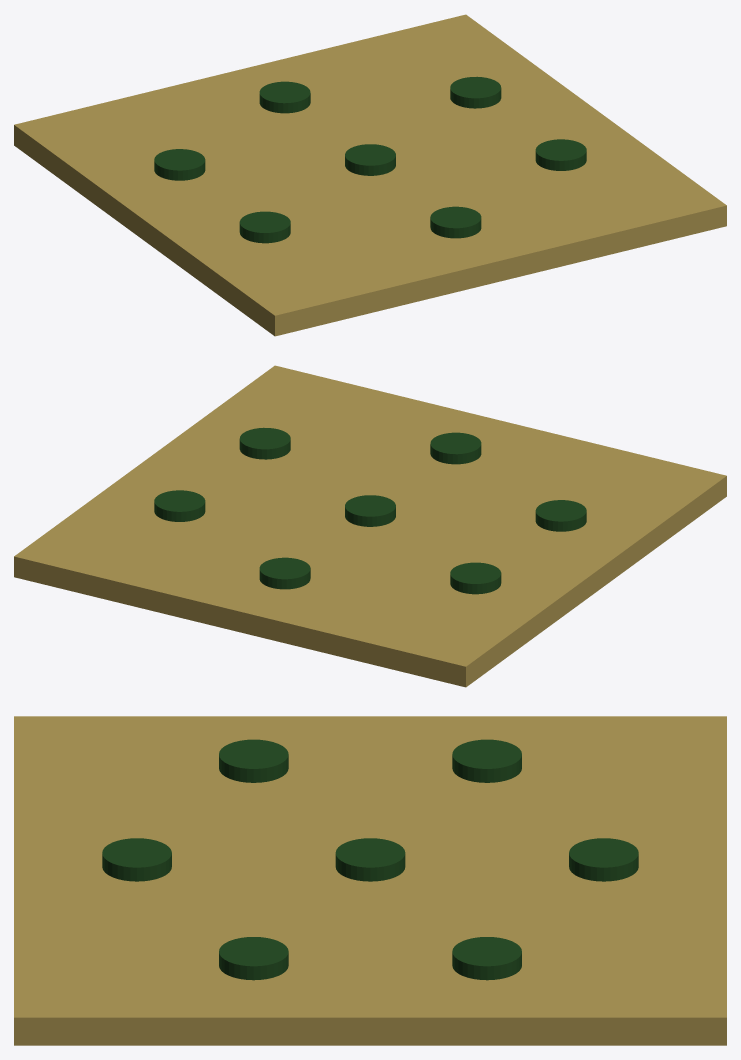
The model's file is powerSpread.fbx.
3 views of the same model, one above another, from view 1: azimuth 30°, elevation 25°; view 2: azimuth 150°, elevation 25°; view 3: azimuth 270°, elevation 25° (orthographic). The views are drawn at different scales.
Parts seen in each view (by area): view 1: Cylinder.037; view 2: Cylinder.037; view 3: Cylinder.037.
Part boxes in pixels (bbox=[...]): Cylinder.037: bbox=[14, 14, 726, 336]; Cylinder.037: bbox=[14, 365, 726, 687]; Cylinder.037: bbox=[14, 716, 726, 1045].
Bounding box in the file's own units: 611 × 39.91 × 611.
